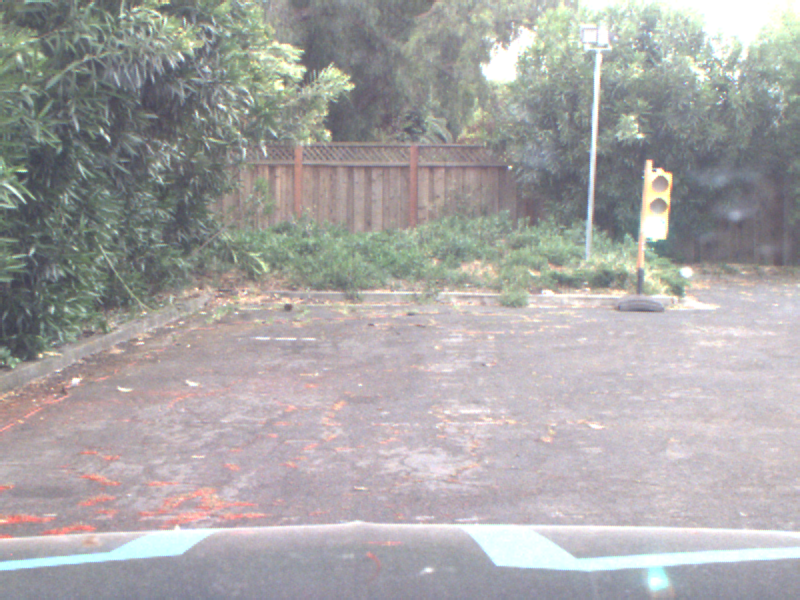Green: (642, 169, 668, 243)
